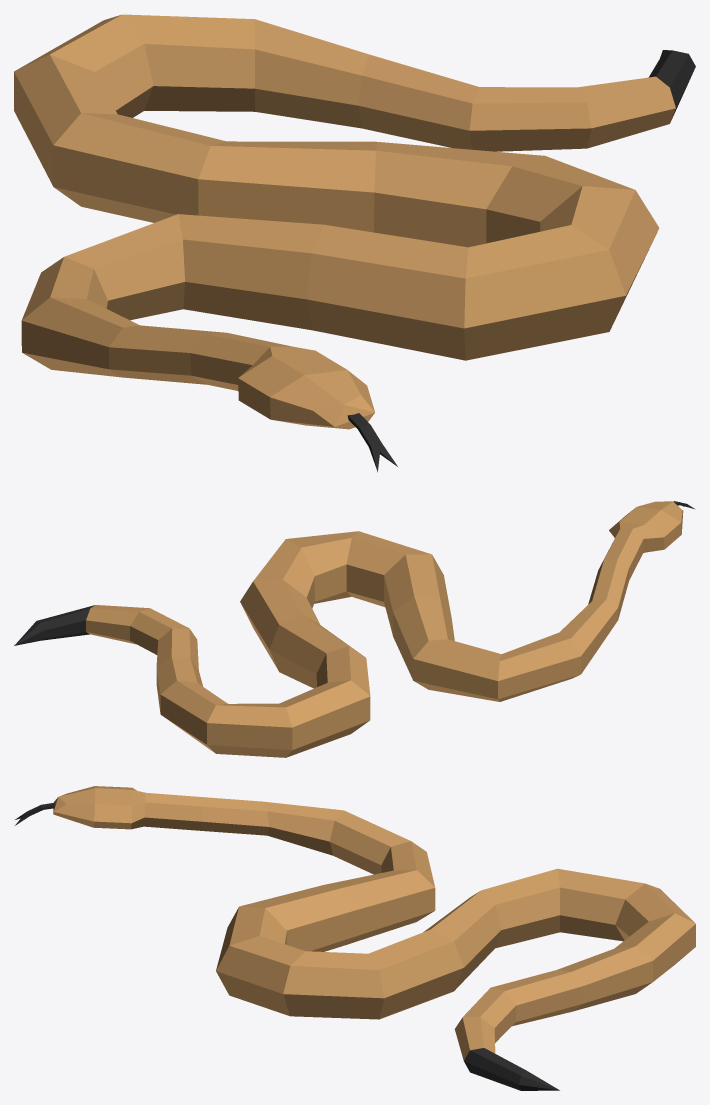
Rendered from animals-snake.glb.
3 views of the same model, one above another, from view 1: azimuth 30°, elevation 25°; view 2: azimuth 150°, elevation 25°; view 3: azimuth 270°, elevation 25° (orthographic). The views are drawn at different scales.
Parts seen in each view (by area): view 1: snake; view 2: snake; view 3: snake.
Part boxes in pixels (<box>): snake: <box>14,14,695,472</box>; snake: <box>14,501,695,757</box>; snake: <box>15,786,695,1090</box>.
Bounding box in the file's own units: 0.8277 × 0.1628 × 0.991.
